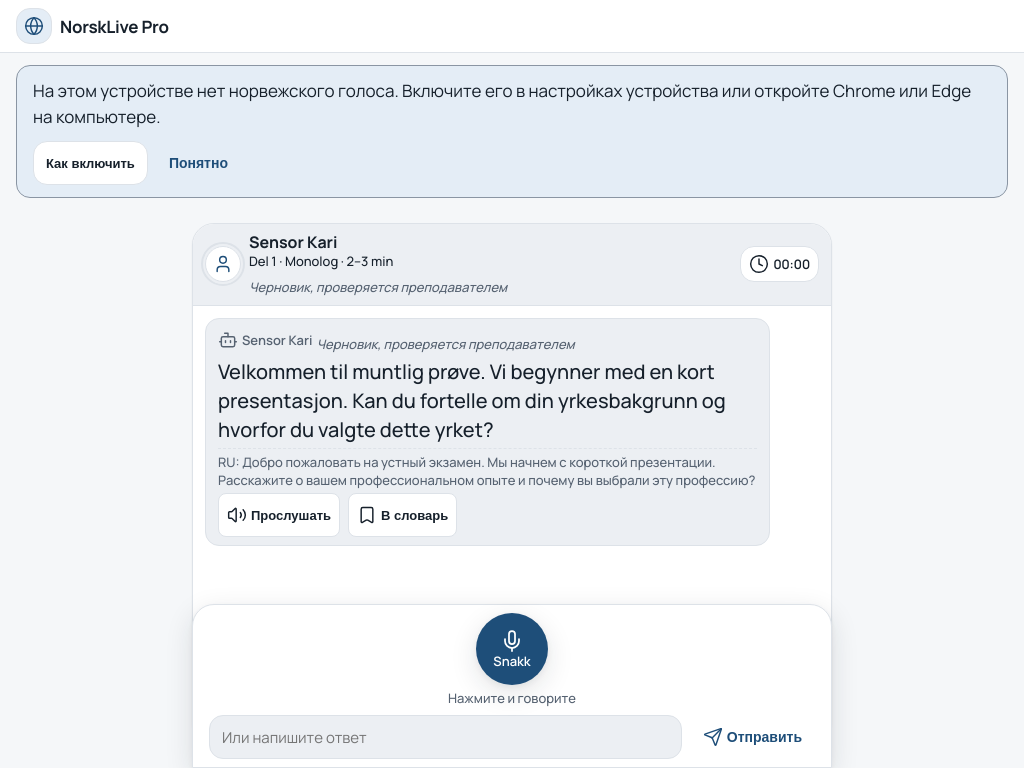
Scenario: StudioPage (/ and /studio) M1a-3 Full UI, Chat & Voice › 13 (#49). Submitting a correct sentence renders status: ok, praise, no strike-through, and keeps input enabled
Step 1. Type "Jeg tenker at miljø er viktig fordi jeg bor i Oslo." into the field with id "userSpeechInput" → [445, 737], box [209,715,682,759]
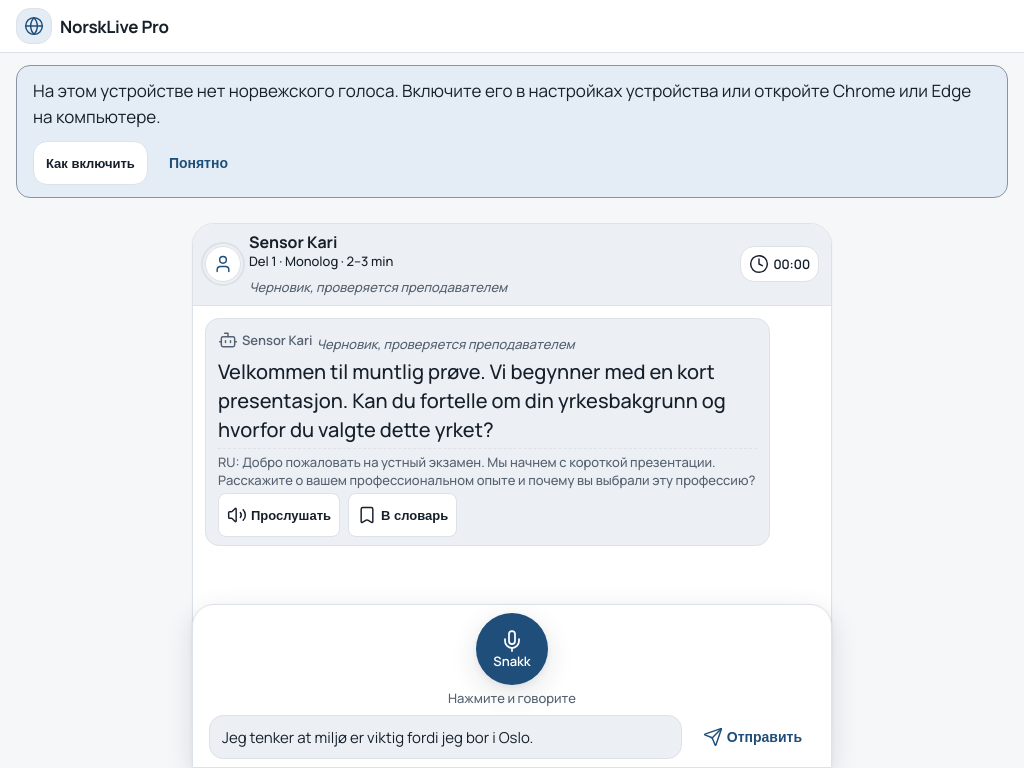
Step 2. Click the button with id "sendSpeechBtn" → [752, 737], box [690,715,815,759]
(page scrolled)
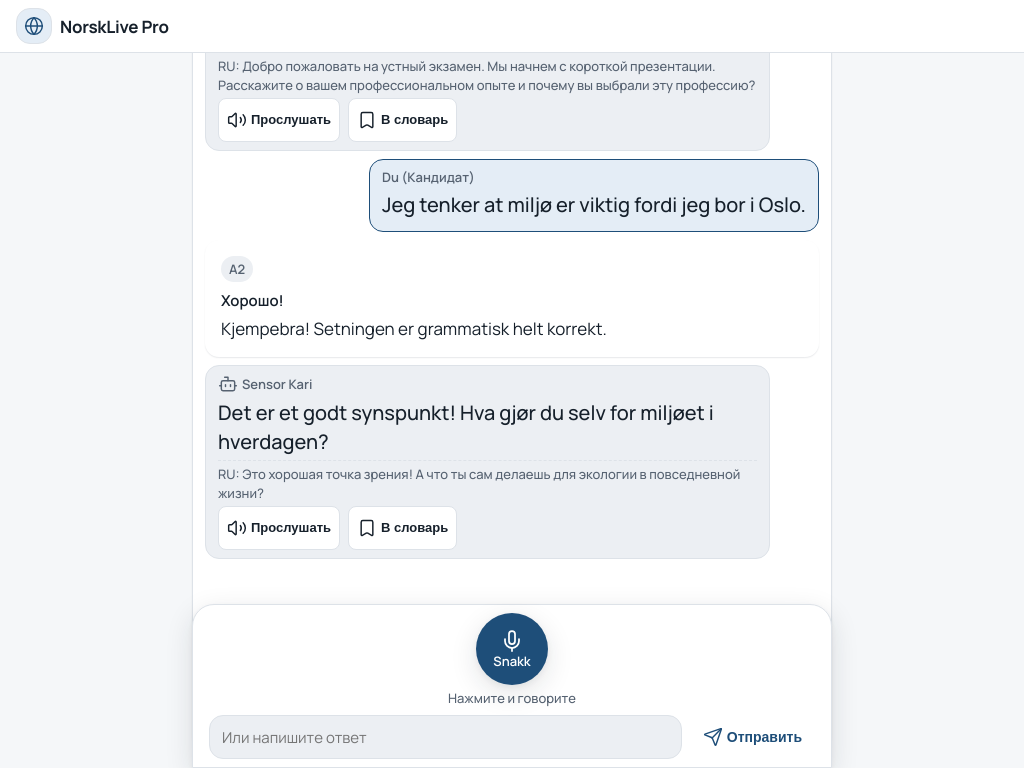
Expected: the element with id "chatStream" shows "Jeg tenker at miljø er viktig fordi jeg bor i Oslo.", [382,191,806,218]
Expected: the element with id "chatStream" shows "Det er et godt synspunkt!", [218,399,714,455]
Expected: the text with test id "correctionOk" reads "Хорошо!", [221,290,284,311]
